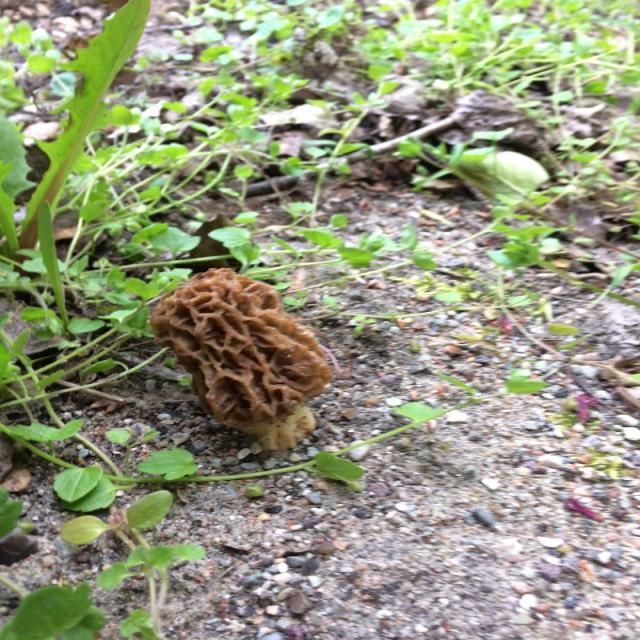Morchella esculenta: (155, 270, 341, 448)
